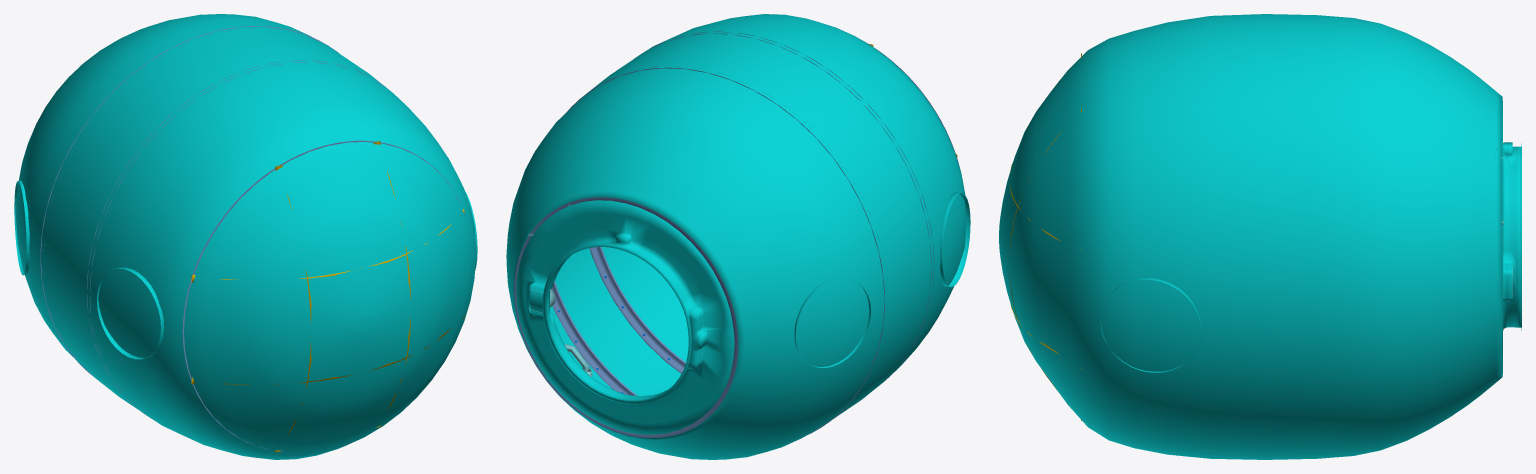
File: Sheathing2Sides.fbx
3 views of the same model, side by side, from view 1: azimuth 30°, elevation 25°; view 2: azimuth 150°, elevation 25°; view 3: azimuth 270°, elevation 25° (orthographic). The views are drawn at different scales.
Parts seen in each view (by area): view 1: Sheathing.001; view 2: Sheathing.001; view 3: Sheathing.001.
Boxes of the visible parts, box(x1,y1,x2,y2) form: Sheathing.001: box(14, 14, 477, 459); Sheathing.001: box(506, 14, 970, 459); Sheathing.001: box(999, 14, 1521, 459).
Size of the model in its own units: 227 by 227 by 266.
